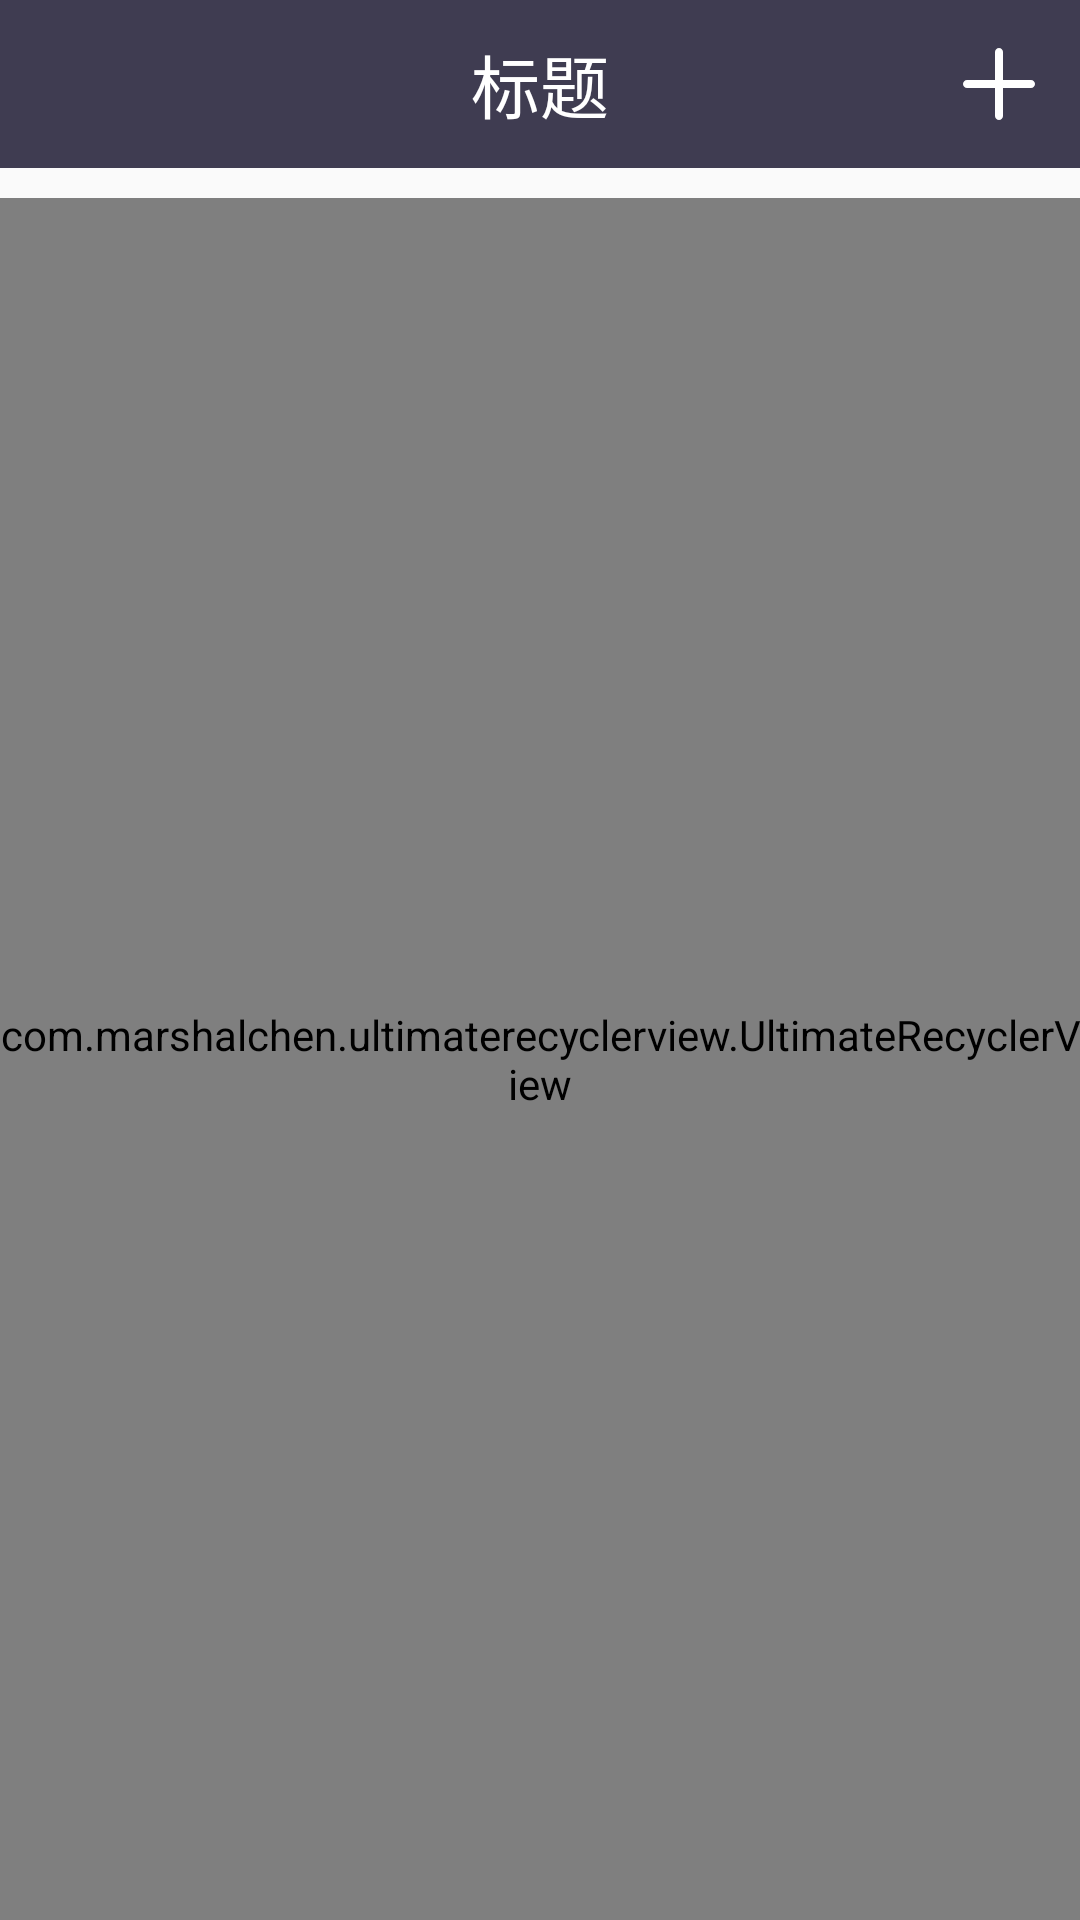

Icons on this 1080*1920 Android screen, each with its box as (left=x1, top=y1, right=x2, bottom=y2):
add: (left=963, top=48, right=1035, bottom=120)
